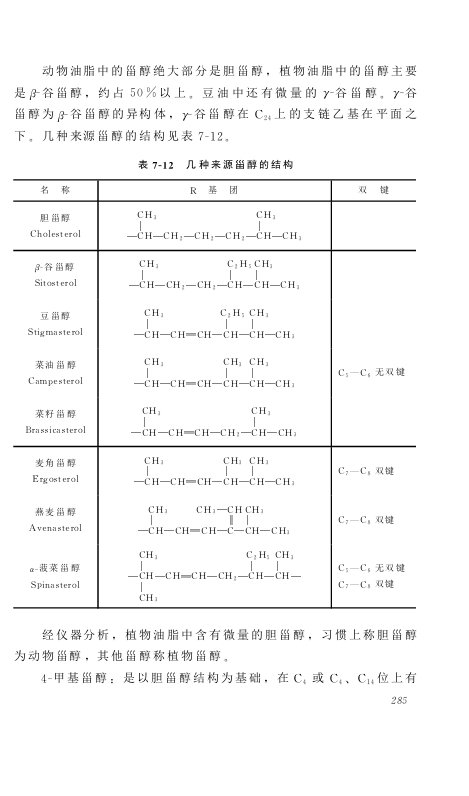table: (13, 179, 416, 609)
